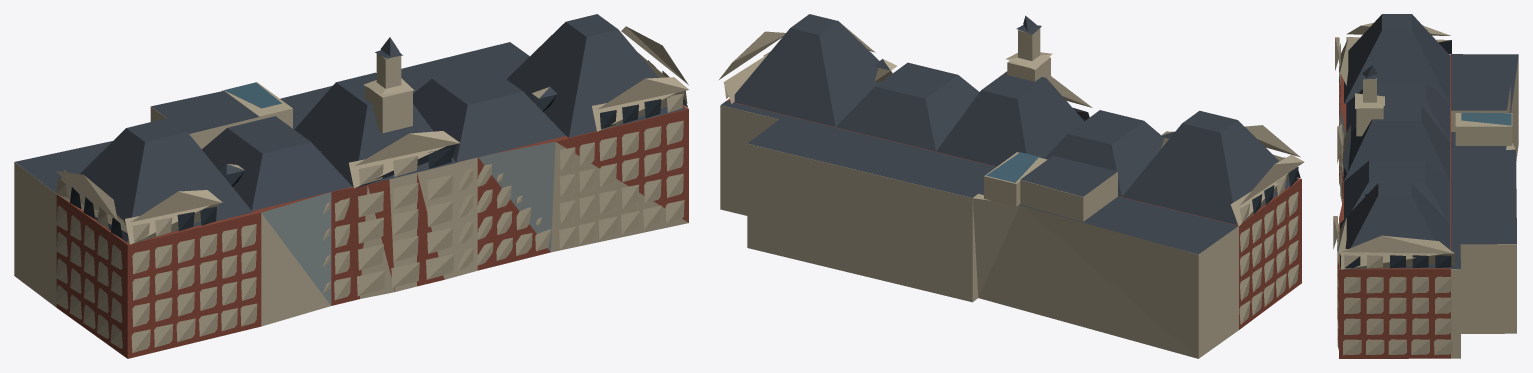
The model's file is de-bijenkorf.lod2.glb.
3 views of the same model, side by side, from view 1: azimuth 30°, elevation 25°; view 2: azimuth 150°, elevation 25°; view 3: azimuth 270°, elevation 25° (orthographic). The views are drawn at different scales.
Parts seen in each view (by area): view 1: lod2; view 2: lod2; view 3: lod2.
Part boxes in pixels (x1,y1,x2,y2): lod2: (14, 14, 688, 358); lod2: (719, 14, 1303, 358); lod2: (1333, 14, 1518, 358).
Size of the model in its own units: 114 by 45.23 by 40.55.
